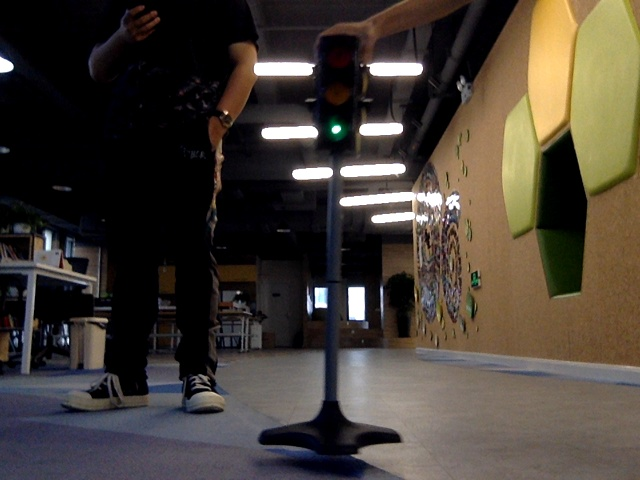green: (321, 43, 355, 147)
